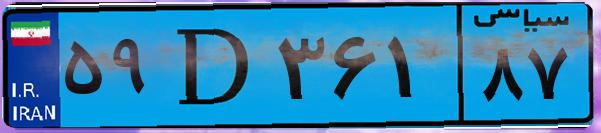1: (385, 28, 445, 110)
3: (270, 28, 330, 110)
5: (57, 26, 110, 100)
6: (330, 28, 385, 110)
7: (525, 38, 570, 115)
8: (475, 38, 525, 113)
9: (110, 28, 158, 98)
D: (158, 12, 270, 120)
